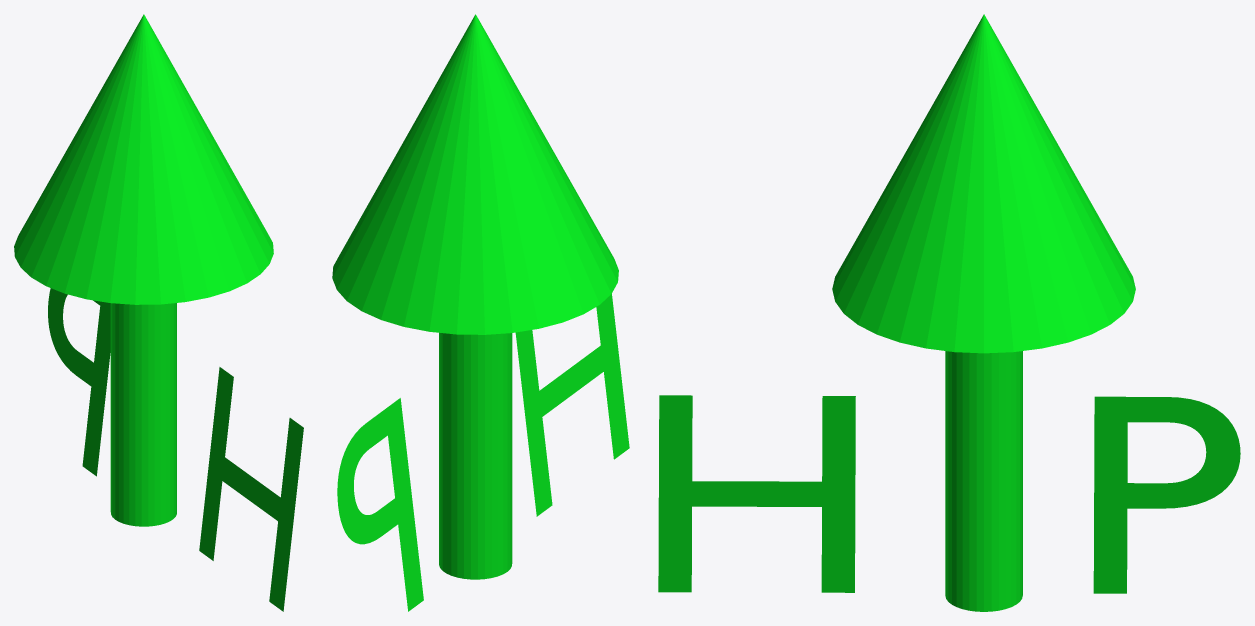
File: Item2.obj
The picture shows the model from 3 angles, left to right: view 1: azimuth 30°, elevation 25°; view 2: azimuth 150°, elevation 25°; view 3: azimuth 270°, elevation 25°; orthographic projection. The views are drawn at different scales.
Parts seen in each view (by area): view 1: 円錐, テキスト; view 2: 円錐, テキスト; view 3: 円錐, テキスト.
Boxes of the visible parts, box(x1,y1,x2,y2) form: 円錐: box(14, 14, 273, 526); テキスト: box(48, 288, 303, 611); 円錐: box(332, 14, 618, 579); テキスト: box(337, 294, 629, 611); 円錐: box(832, 14, 1135, 611); テキスト: box(658, 395, 1240, 593).
Size of the model in its own units: 0.893 by 1.89 by 1.71.
2 materials, 2 textured.
